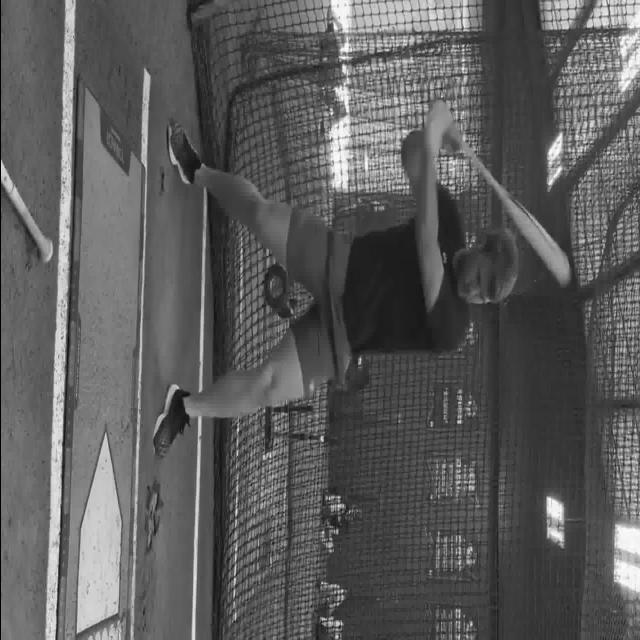bat: (459, 140, 570, 287)
shoe: (152, 385, 189, 458), (166, 120, 200, 184)
